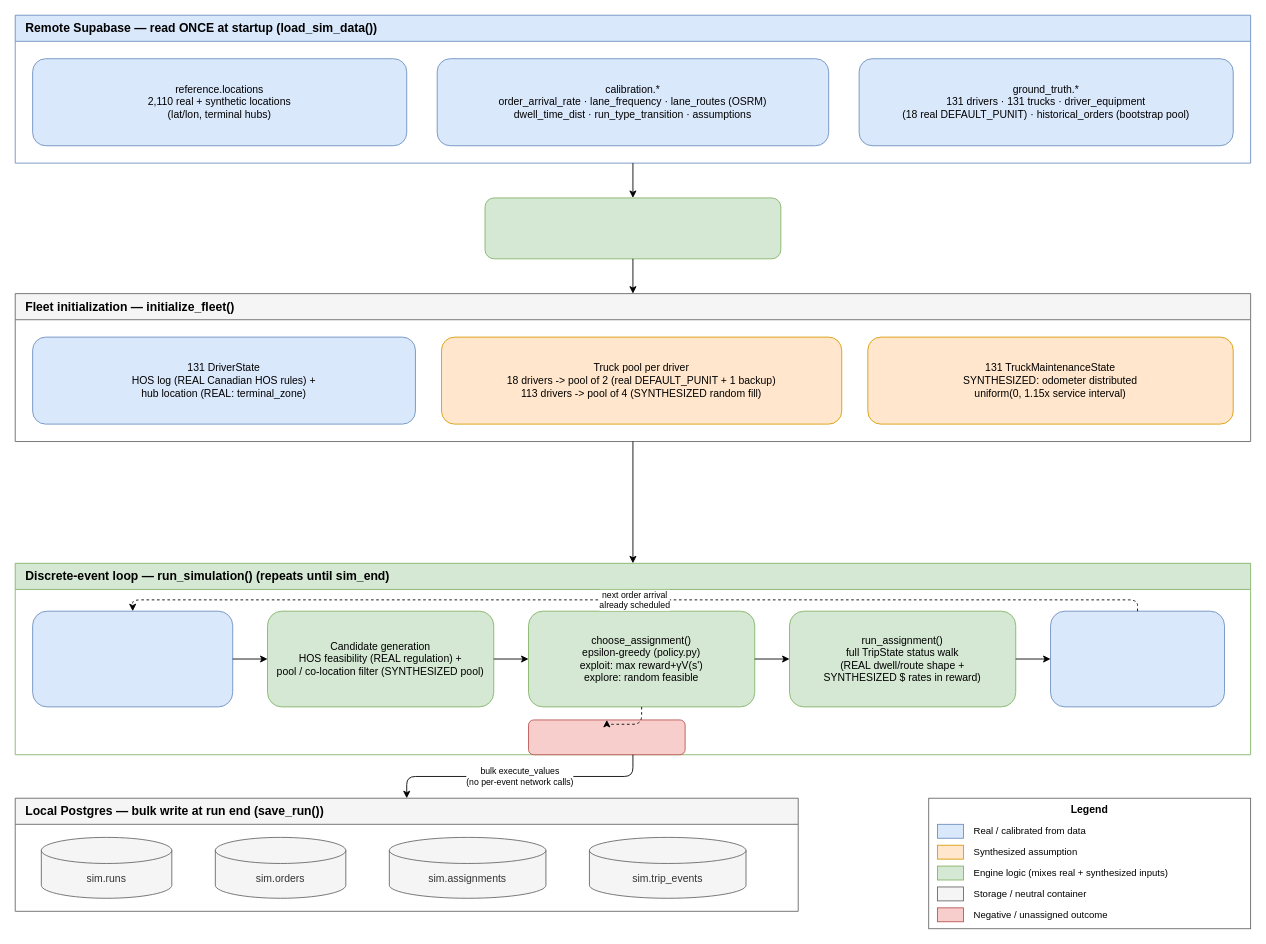
Image size: 1266x944. Some labels were removed from this diagram. Here are the shapes that lost their labels. From the top down, the centre of each, then its label:
At (x=632, y=228): "SimData (held in memory for the whole run)".
At (x=132, y=658): "ORDER_ARRIVAL Poisson draw (REAL: calibrated hourly/daily rate)".
At (x=1137, y=658): "TRIP_COMPLETE driver + truck freed at final location".
At (x=606, y=737): "No feasible candidate -> order stays unassigned".
